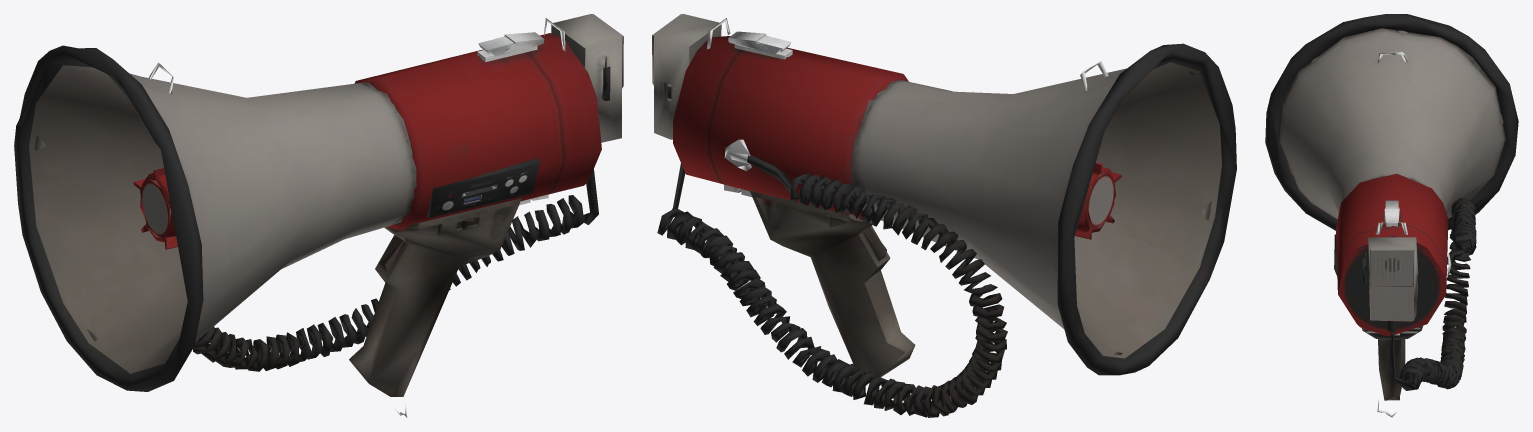
File: megaphone.glb
3 views of the same model, side by side, from view 1: azimuth 30°, elevation 25°; view 2: azimuth 150°, elevation 25°; view 3: azimuth 270°, elevation 25° (orthographic). The views are drawn at different scales.
Parts seen in each view (by area): view 1: Megaphone_01; view 2: Megaphone_01; view 3: Megaphone_01.
Boxes of the visible parts, x1=… form: Megaphone_01: x1=14, y1=14, x2=623, y2=417; Megaphone_01: x1=652, y1=14, x2=1236, y2=417; Megaphone_01: x1=1265, y1=14, x2=1518, y2=417.
Bounding box in the file's own units: 0.3707 × 0.3001 × 0.2269.
Materials: 1 (1 with a texture image).
